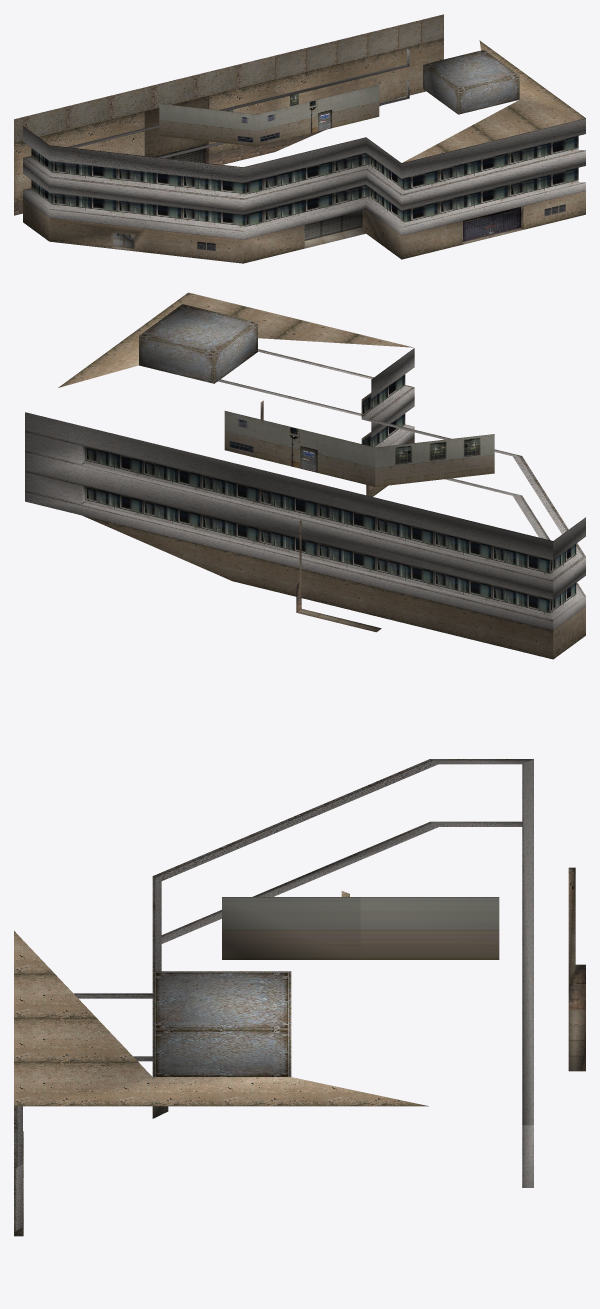
File: M11Z1_TownWall04.glb
The picture shows the model from 3 angles, top to bottom: view 1: azimuth 30°, elevation 25°; view 2: azimuth 150°, elevation 25°; view 3: azimuth 270°, elevation 25°; orthographic projection. The views are drawn at different scales.
Visible parts, largest first — view 1: M11Z1_TOWNWALL04; view 2: M11Z1_TOWNWALL04; view 3: M11Z1_TOWNWALL04.
Boxes of the visible parts, box(x1,y1,x2,y2) form: M11Z1_TOWNWALL04: box(14, 14, 585, 263); M11Z1_TOWNWALL04: box(25, 292, 585, 659); M11Z1_TOWNWALL04: box(14, 759, 585, 1236).
Bounding box in the file's own units: 56 × 16 × 33.
Materials: 13 (13 with a texture image).
